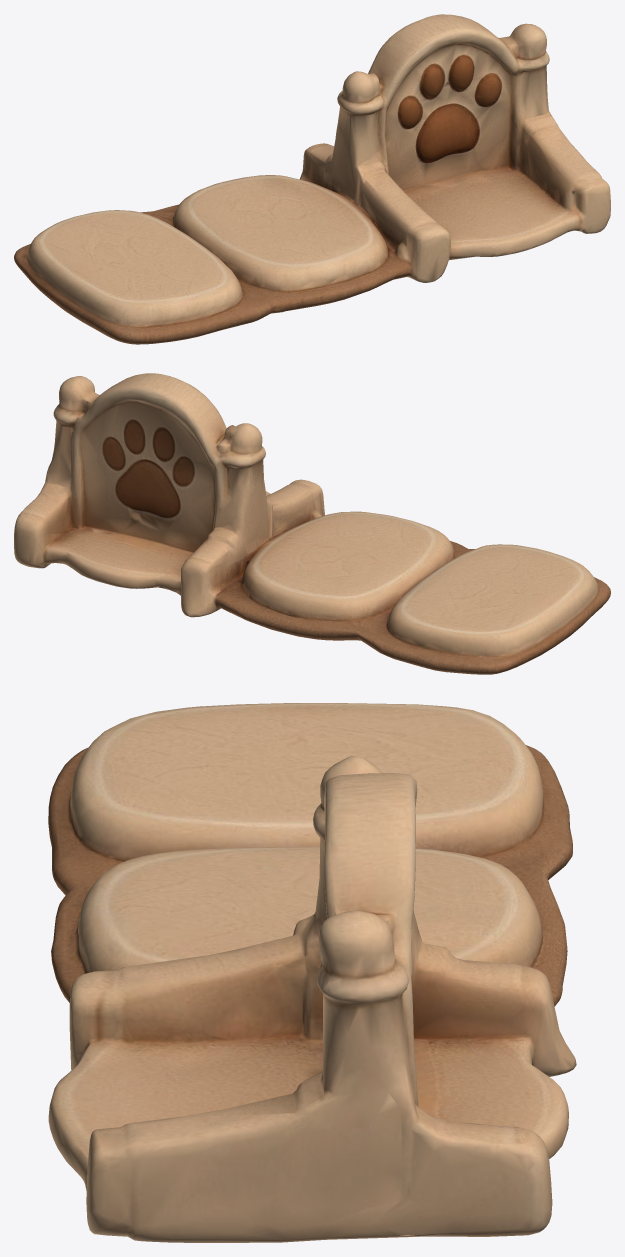
The model's file is road-gate.glb.
3 renders of one model, top to bottom at view 1: azimuth 30°, elevation 25°; view 2: azimuth 150°, elevation 25°; view 3: azimuth 270°, elevation 25°, orthographic. The views are drawn at different scales.
Parts seen in each view (by area): view 1: Mesh_0; view 2: Mesh_0; view 3: Mesh_0.
Part boxes in pixels (left/top/right/bottom): Mesh_0: left=14, top=14, right=610, bottom=344; Mesh_0: left=14, top=373, right=610, bottom=674; Mesh_0: left=48, top=703, right=576, bottom=1242.
Size of the model in its own units: 2 by 0.7077 by 0.9186.
1 material, 1 textured.
